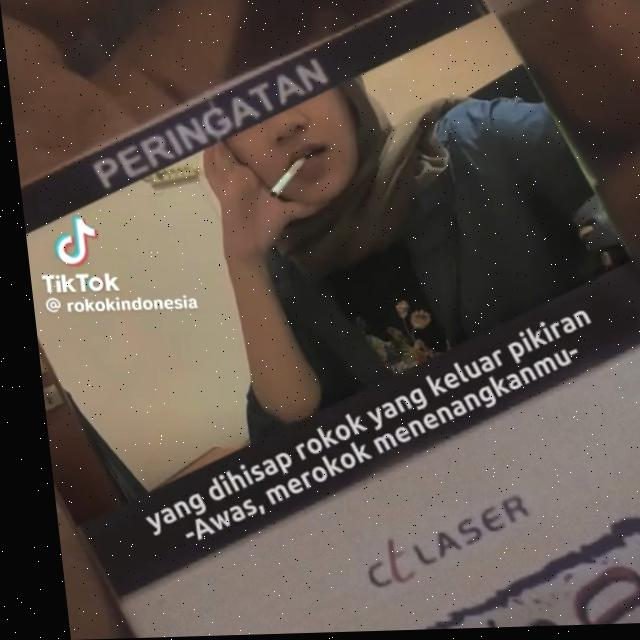cigarette: (260, 158, 307, 201)
